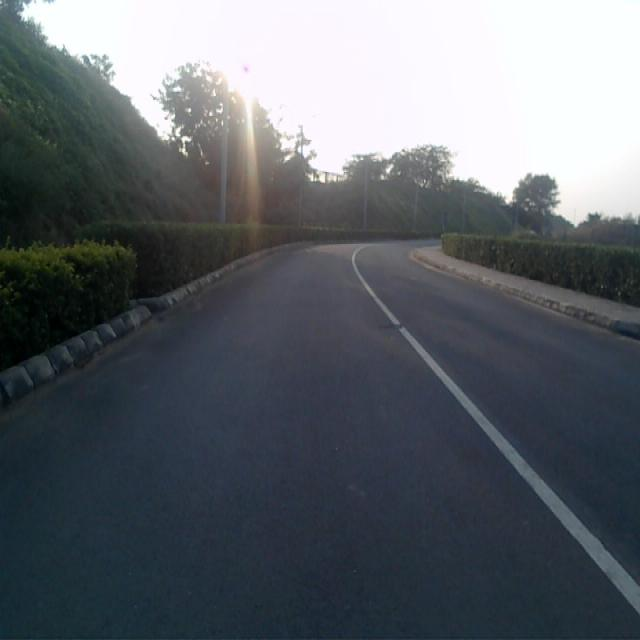lane: (0, 242, 640, 640)
